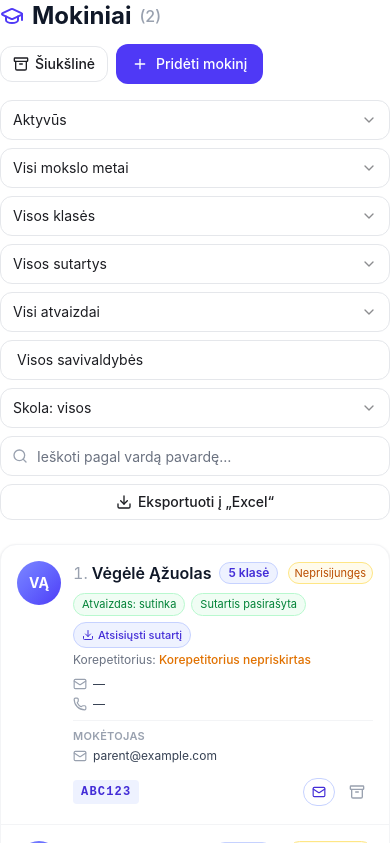
Test case: CompanyStudents school list filters › opens student info as a constrained two-column student/payer layout
The width and height of the screenshot is (390, 843).
Click the text "1. Vėgėlė Ąžuolas" at (142, 573), box [73,561,211,585]
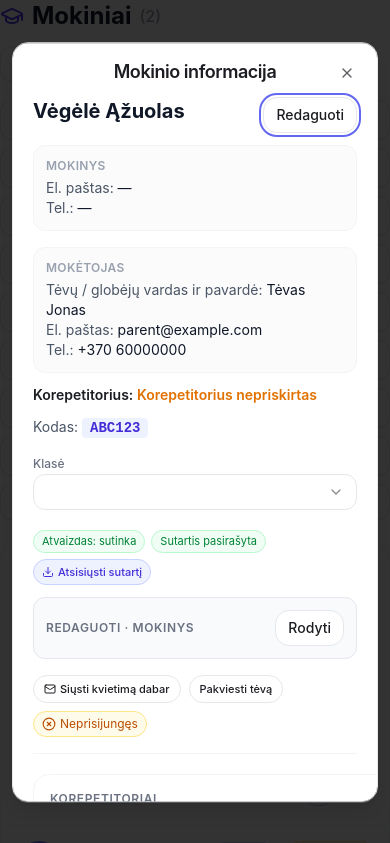
Now the heading "Mokinio informacija" is shown, box [114,61,276,82]
Now the dialog is shown
Now the element that starts with "Mokinys" is shown, box [33,145,357,373]
